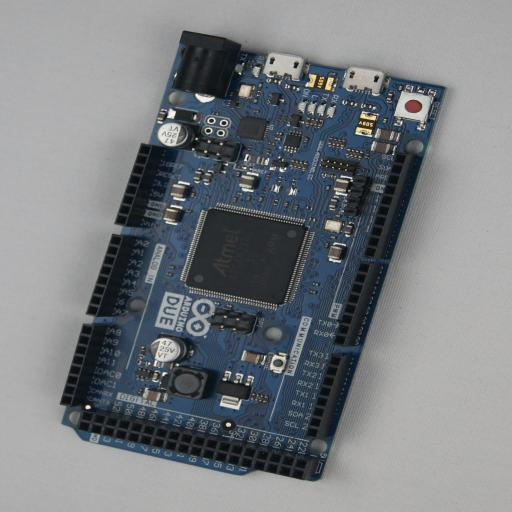Arduino Due: (60, 30, 447, 482)
